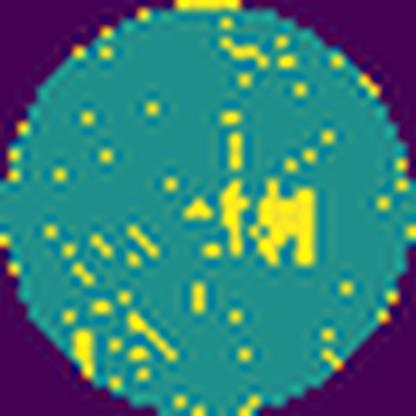Loc: (251, 178, 317, 269), (224, 182, 245, 256)
